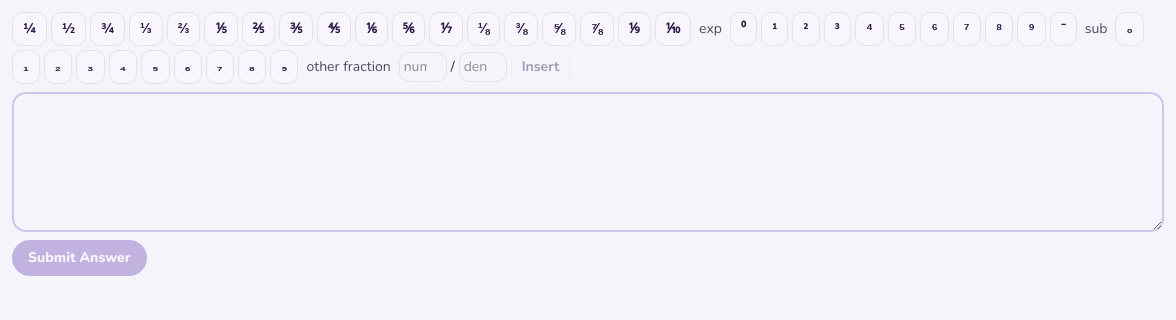
FreeTextAnswerInput rejection states › shows the too-long state and no other rejection state
Type "an answer" into the text box at (588, 162), box [12,92,1164,232]
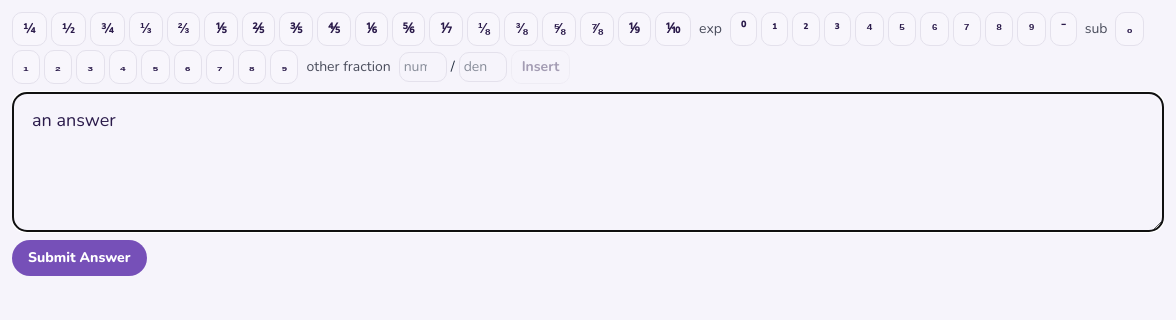
Click the button "Submit Answer" at (79, 258), box [12,240,146,276]
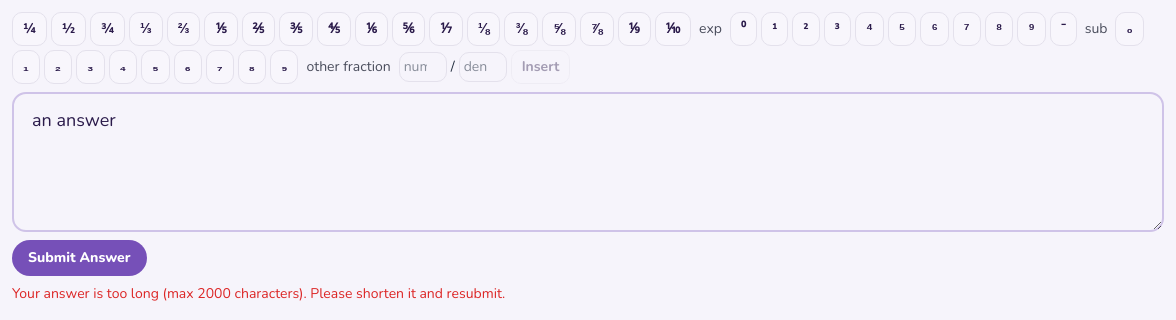
expect the text with test id "free-text-error-too-long" is shown: met, box [12,284,505,303]
